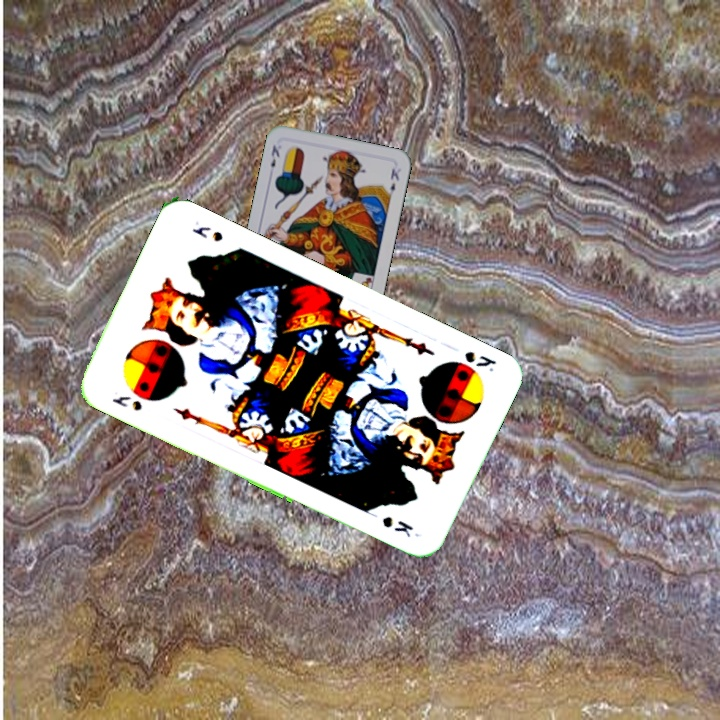EK: (267, 141, 282, 170)
SK: (460, 347, 499, 375), (108, 392, 145, 414)
